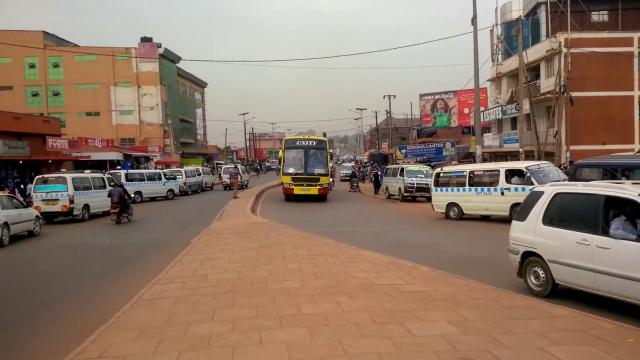bus: (278, 135, 332, 199)
car: (339, 163, 354, 182)
motorcycle: (108, 194, 138, 229), (349, 170, 360, 193)
van: (508, 179, 638, 319), (431, 161, 528, 220), (44, 171, 107, 219), (567, 153, 640, 189), (106, 169, 172, 202), (382, 163, 425, 201), (162, 167, 202, 196), (221, 165, 251, 190), (198, 166, 216, 190), (268, 160, 279, 170)
